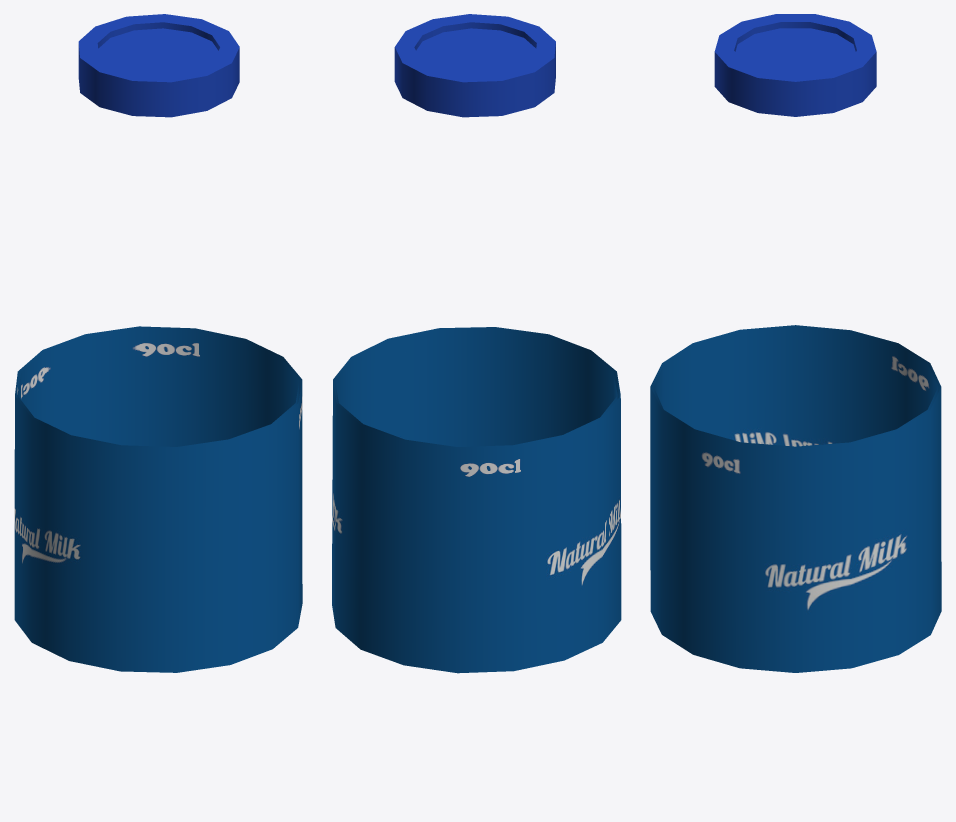
The model's file is Milk.fbx.
3 views of the same model, side by side, from view 1: azimuth 30°, elevation 25°; view 2: azimuth 150°, elevation 25°; view 3: azimuth 270°, elevation 25° (orthographic).
Visible parts, largest first — view 1: Milk; view 2: Milk; view 3: Milk.
Boxes of the visible parts, x1,y1,x2,y2 form: Milk: [14, 14, 302, 672]; Milk: [332, 14, 621, 673]; Milk: [650, 14, 941, 672].
Size of the model in its own units: 9.98 by 26.79 by 9.94.
1 material, 1 textured.
